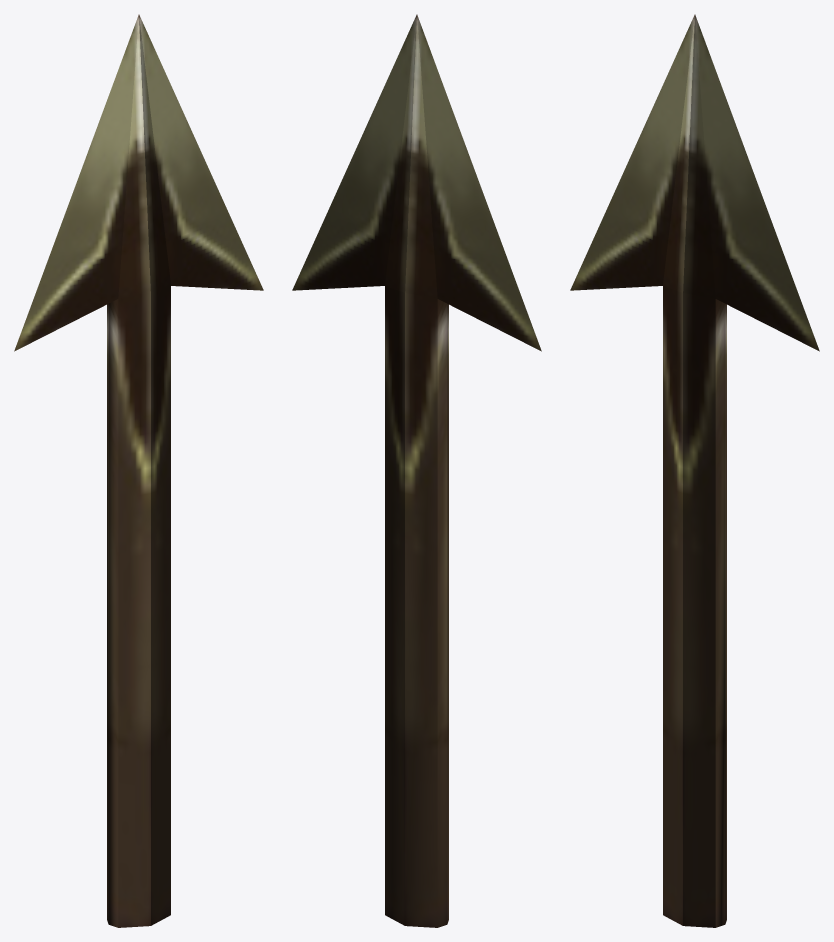
The model's file is mazhong_dandao.FBX.
The picture shows the model from 3 angles, left to right: view 1: azimuth 30°, elevation 25°; view 2: azimuth 150°, elevation 25°; view 3: azimuth 330°, elevation 25°; orthographic projection.
Visible parts, largest first — view 1: mazhong_dandao; view 2: mazhong_dandao; view 3: mazhong_dandao.
Part boxes in pixels (x1=…): mazhong_dandao: x1=14, y1=14, x2=263, y2=927; mazhong_dandao: x1=292, y1=14, x2=541, y2=927; mazhong_dandao: x1=570, y1=14, x2=819, y2=927.
Size of the model in its own units: 9.5 by 32.84 by 1.57.
1 material, 1 textured.
